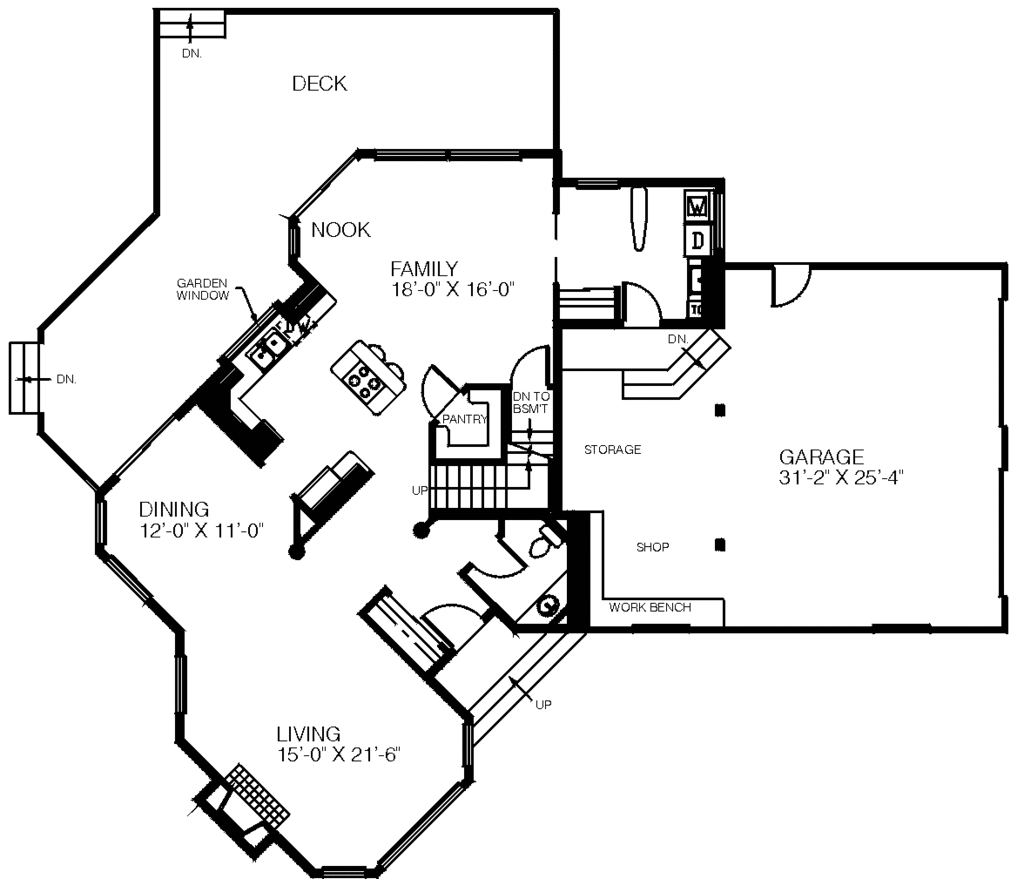door: (407, 595, 499, 654), (452, 539, 536, 583), (759, 258, 828, 311), (402, 359, 462, 418), (504, 330, 555, 385), (613, 274, 663, 325)
kitchen_bar: (333, 336, 407, 418)
large_sink: (521, 514, 566, 569)
small_sink: (520, 588, 569, 622)
stairs: (458, 628, 614, 750), (425, 387, 551, 518), (599, 329, 755, 416), (2, 333, 63, 436), (144, 3, 241, 57)
twin_sink: (235, 324, 309, 376)
window: (83, 535, 165, 610), (370, 143, 526, 165), (87, 465, 120, 555), (173, 653, 198, 725), (277, 221, 310, 268)
